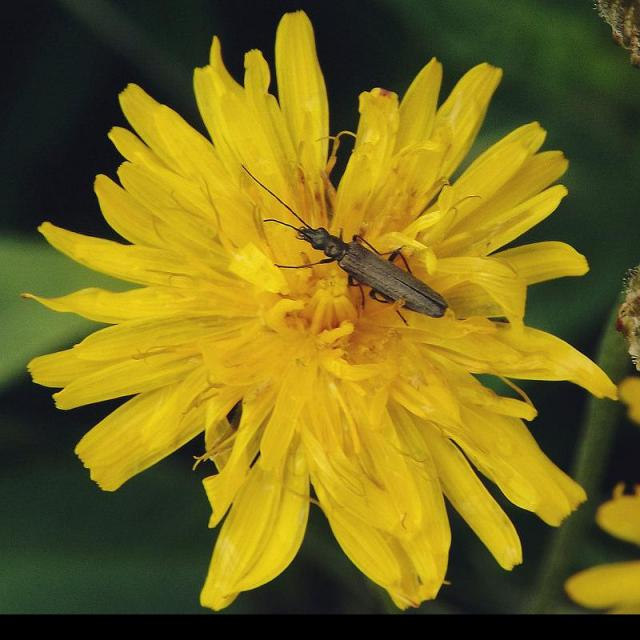BlisterBeetle-Adult-: (243, 167, 447, 321)
